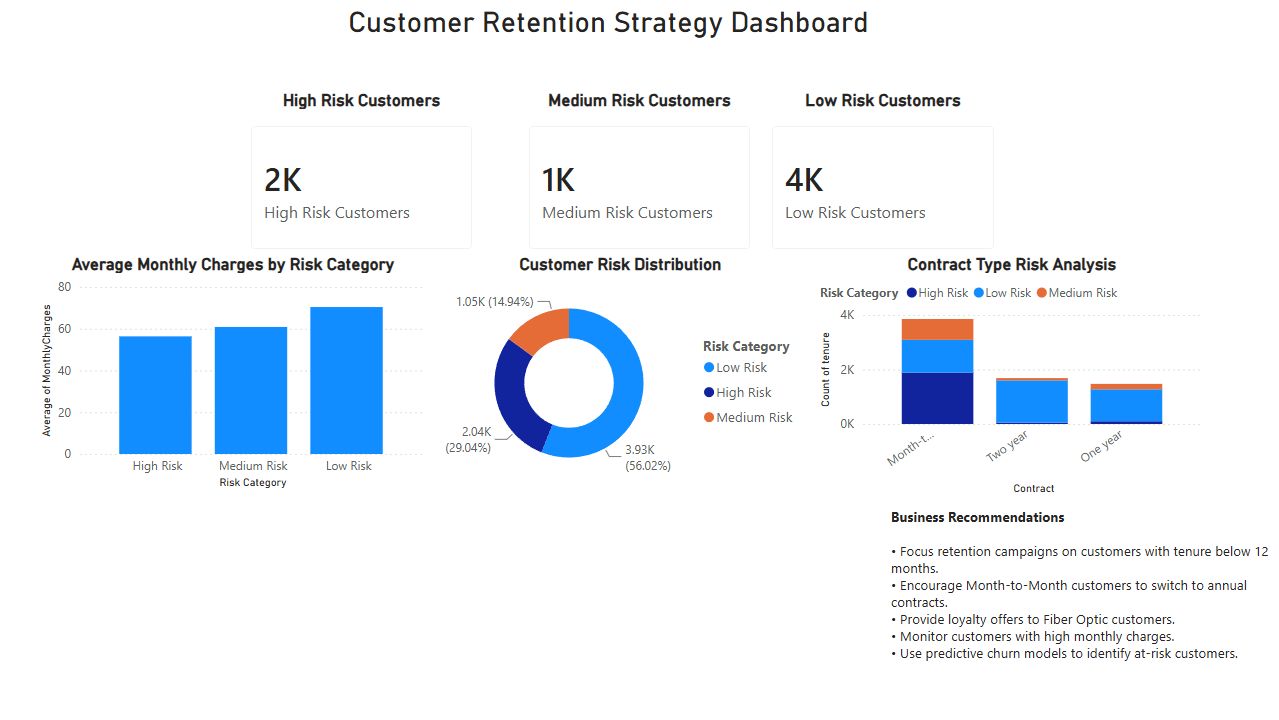

The dashboard page shown, as its layout file describes it:
{"tool":"powerbi","page":{"name":"Customer Retention Strategy","canvas":[1280,720],"ordinal":3},"visuals":[{"type":"cardVisual","title":"High Risk Customers","fields":{"Data":["Churn_Dashboard_Data.High Risk Customers"]},"box":[233.6,90,255.5,176.4],"z":0},{"type":"cardVisual","title":"Medium Risk Customers","fields":{"Data":["Churn_Dashboard_Data.Medium Risk Customers"]},"box":[511.8,90,255.5,176.4],"z":1000},{"type":"cardVisual","title":"Low Risk Customers","fields":{"Data":["Churn_Dashboard_Data.Low Risk Customers"]},"box":[755.5,90,255.5,176.4],"z":2000},{"type":"donutChart","title":"Customer Risk Distribution","fields":{"Category":["Churn_Dashboard_Data.Risk Category"],"Y":["CountNonNull(Churn_Dashboard_Data.Risk Category)"]},"box":[430,253.6,380.9,239.1],"z":3000},{"type":"clusteredColumnChart","title":"Average Monthly Charges by Risk Category","fields":{"Category":["Churn_Dashboard_Data.Risk Category"],"Y":["Avg(Churn_Dashboard_Data.MonthlyCharges)"]},"box":[36.4,253.6,393.6,239.1],"z":4000},{"type":"columnChart","title":"Contract Type Risk Analysis","fields":{"Category":["Churn_Dashboard_Data.Contract"],"Series":["Churn_Dashboard_Data.Risk Category"],"Y":["CountNonNull(Churn_Dashboard_Data.tenure)"]},"box":[815,253.8,393.8,245],"z":5000},{"type":"textbox","box":[0,0,1217.3,64.5],"z":6000},{"type":"textbox","box":[886.2,502.5,393.8,217.5],"z":7000}]}

Visuals, with their boxes in screenshot pixels (x1, y1, x2, y2), scaled from the page's 1280x720 canvas onto the 1279x720 screenshot:
"High Risk Customers" cardVisual: (left=233, top=90, right=489, bottom=266)
"Medium Risk Customers" cardVisual: (left=511, top=90, right=767, bottom=266)
"Low Risk Customers" cardVisual: (left=755, top=90, right=1010, bottom=266)
"Customer Risk Distribution" donutChart: (left=430, top=254, right=810, bottom=493)
"Average Monthly Charges by Risk Category" clusteredColumnChart: (left=36, top=254, right=430, bottom=493)
"Contract Type Risk Analysis" columnChart: (left=814, top=254, right=1208, bottom=499)
textbox: (left=0, top=0, right=1216, bottom=64)
textbox: (left=886, top=502, right=1278, bottom=719)
